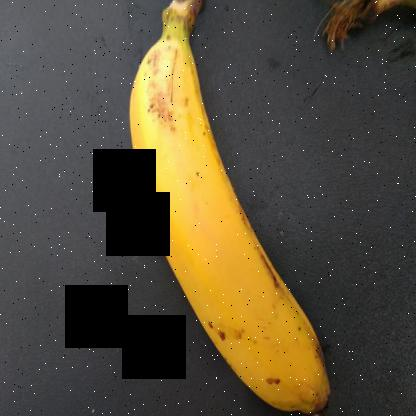ripe: (108, 24, 343, 415)
